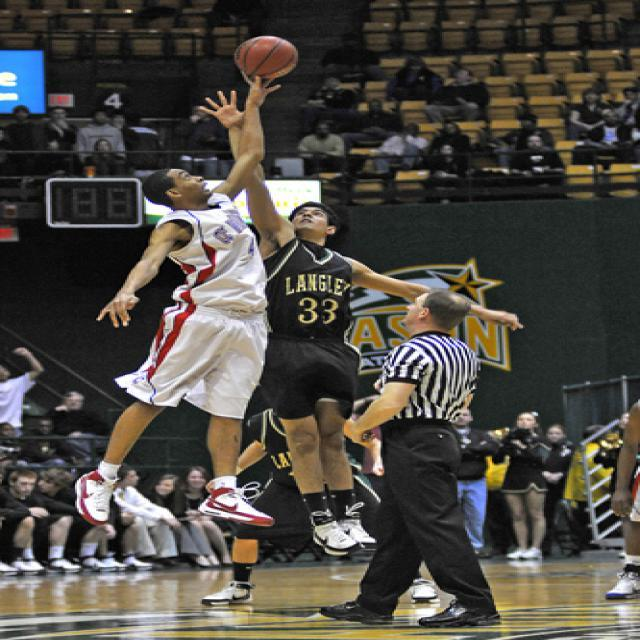basketball: (234, 34, 300, 80)
